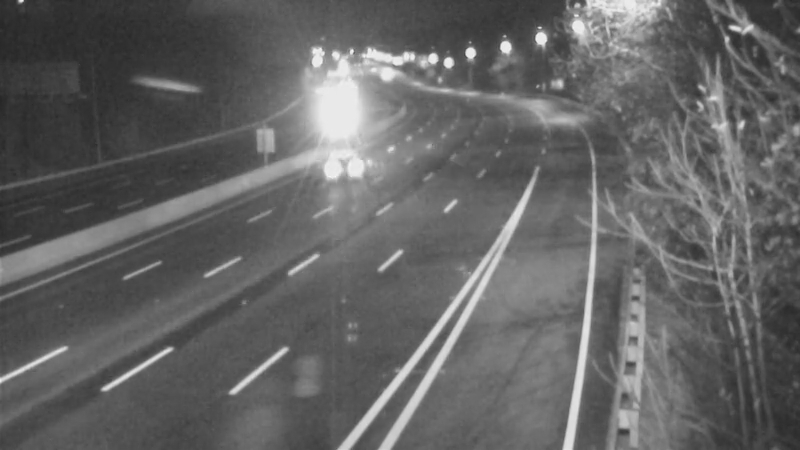vehicle: (314, 123, 394, 203), (308, 95, 358, 145)
